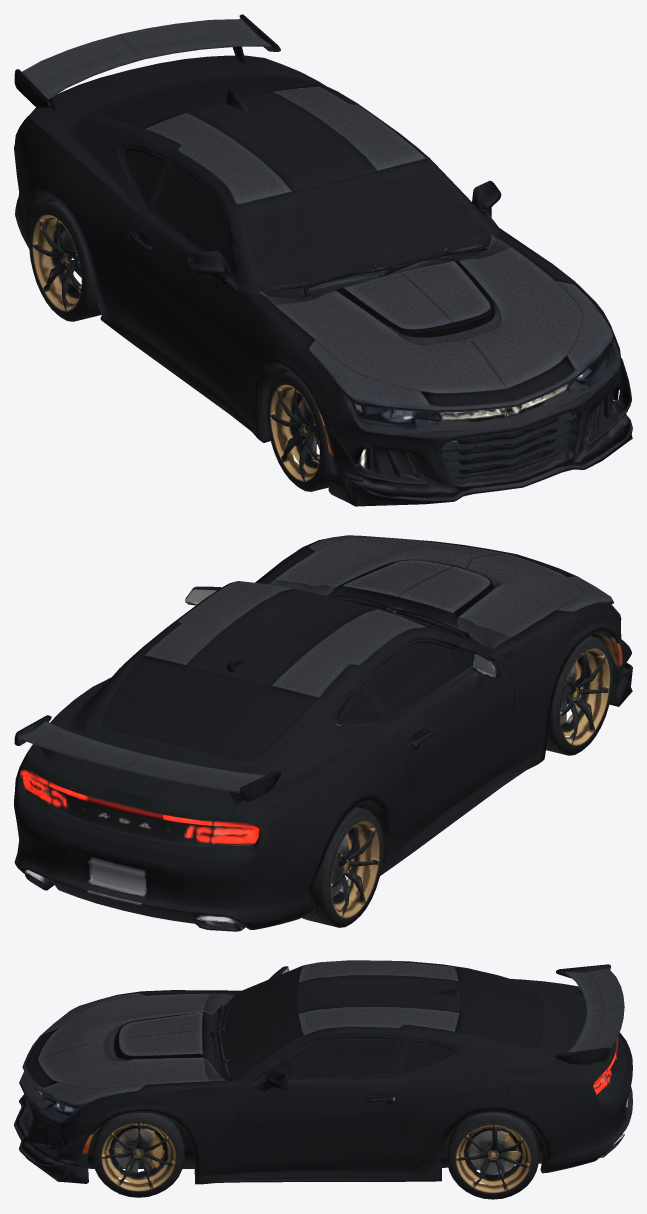
File: rob.glb
3 views of the same model, one above another, from view 1: azimuth 30°, elevation 25°; view 2: azimuth 150°, elevation 25°; view 3: azimuth 270°, elevation 25° (orthographic). The views are drawn at different scales.
Parts seen in each view (by area): view 1: bf4dc507_f974_4acc_8885_6a9743dccd54; view 2: bf4dc507_f974_4acc_8885_6a9743dccd54; view 3: bf4dc507_f974_4acc_8885_6a9743dccd54.
Boxes of the visible parts, x1,y1,x2,y2 form: bf4dc507_f974_4acc_8885_6a9743dccd54: (14,14,632,506); bf4dc507_f974_4acc_8885_6a9743dccd54: (14,535,632,931); bf4dc507_f974_4acc_8885_6a9743dccd54: (14,960,632,1199).
Size of the model in its own units: 0.4399 by 0.2818 by 0.9995.
5 materials, 5 textured.
